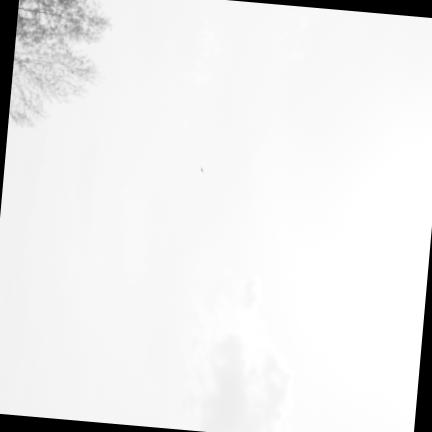Shahed: (200, 166, 203, 171)
